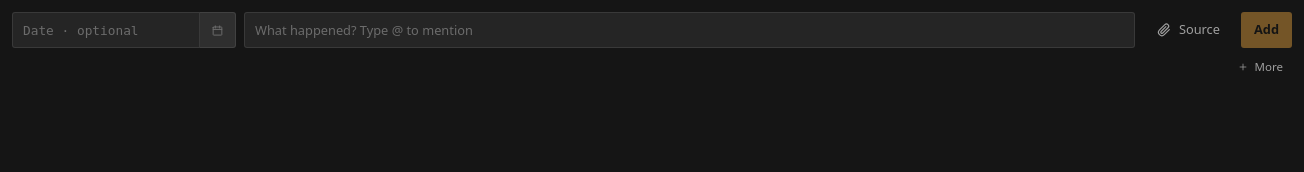
mentions › keeps a literal @ as text on Escape
In the dropdown named "What happened": (689, 30) top-left (244, 12), bottom-right (1135, 48), type "Mail @ops"
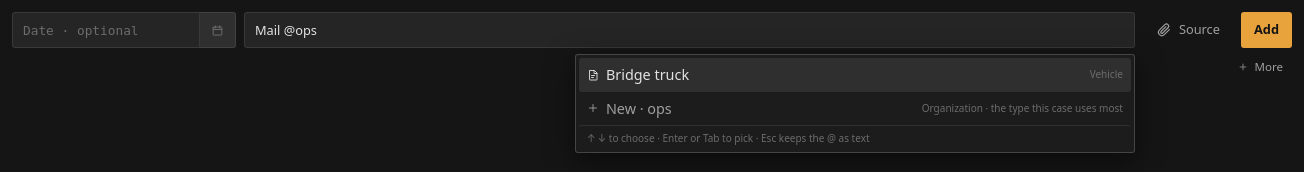
Press Escape in the dropdown named "What happened", box top-left (244, 12), bottom-right (1135, 48)
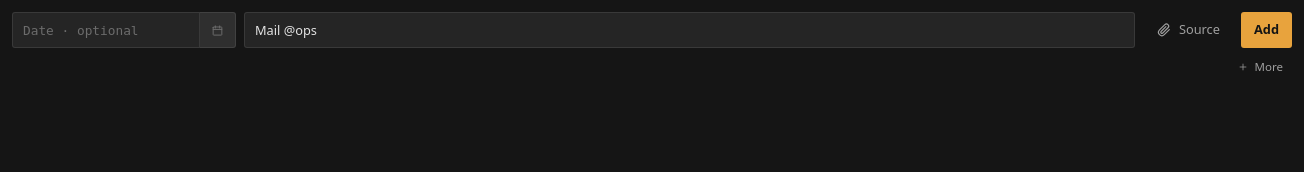
Result: the list is gone
